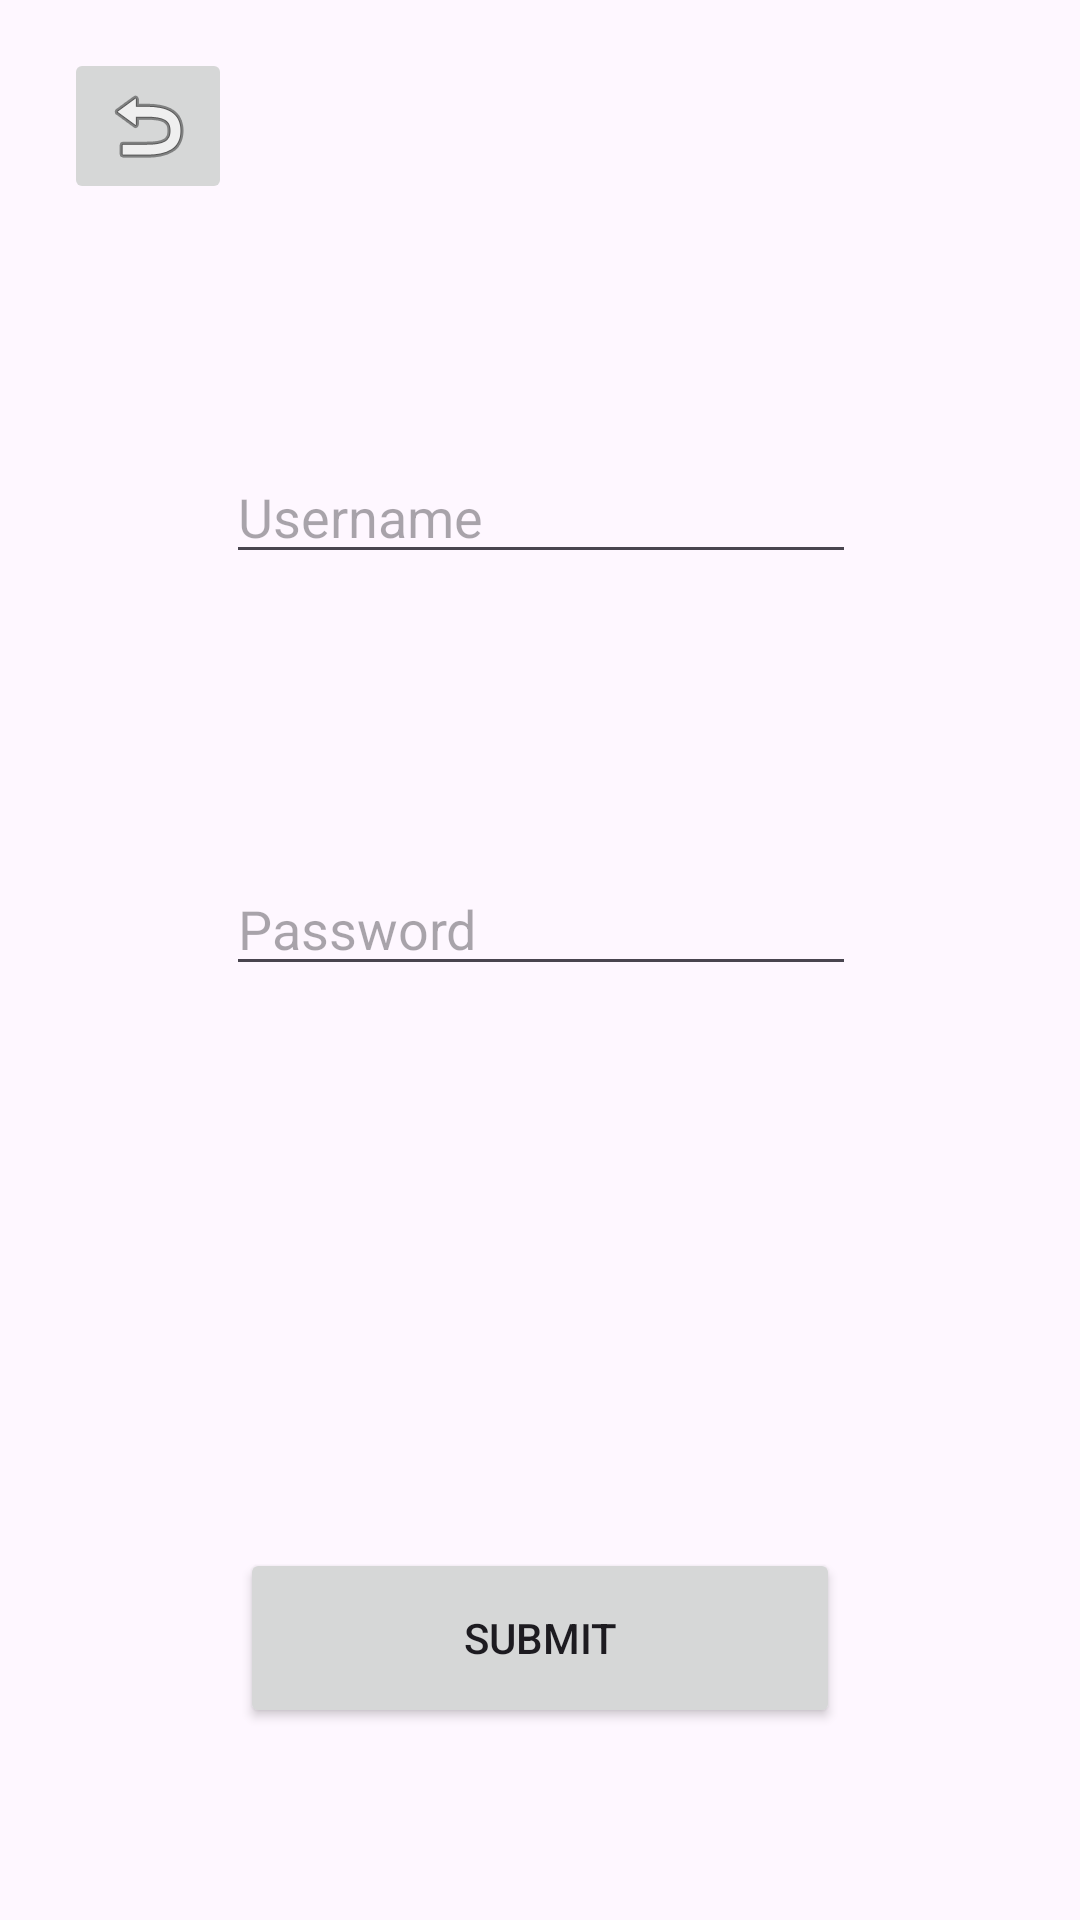

Point at icon controls on the screen. Image size 1080x1920, points as (x,y).
revert: (148,126)
